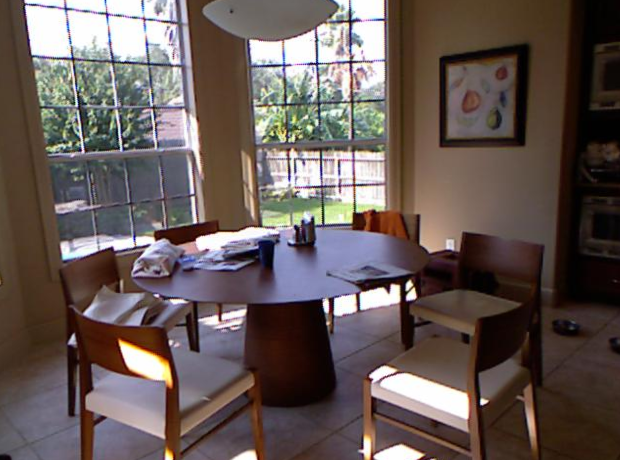chair: (362, 304, 553, 460), (71, 310, 262, 457), (459, 232, 544, 298), (59, 257, 120, 315), (353, 214, 420, 236), (157, 220, 216, 242)
table: (134, 237, 427, 305)
window: (31, 2, 193, 218), (247, 27, 387, 204)
